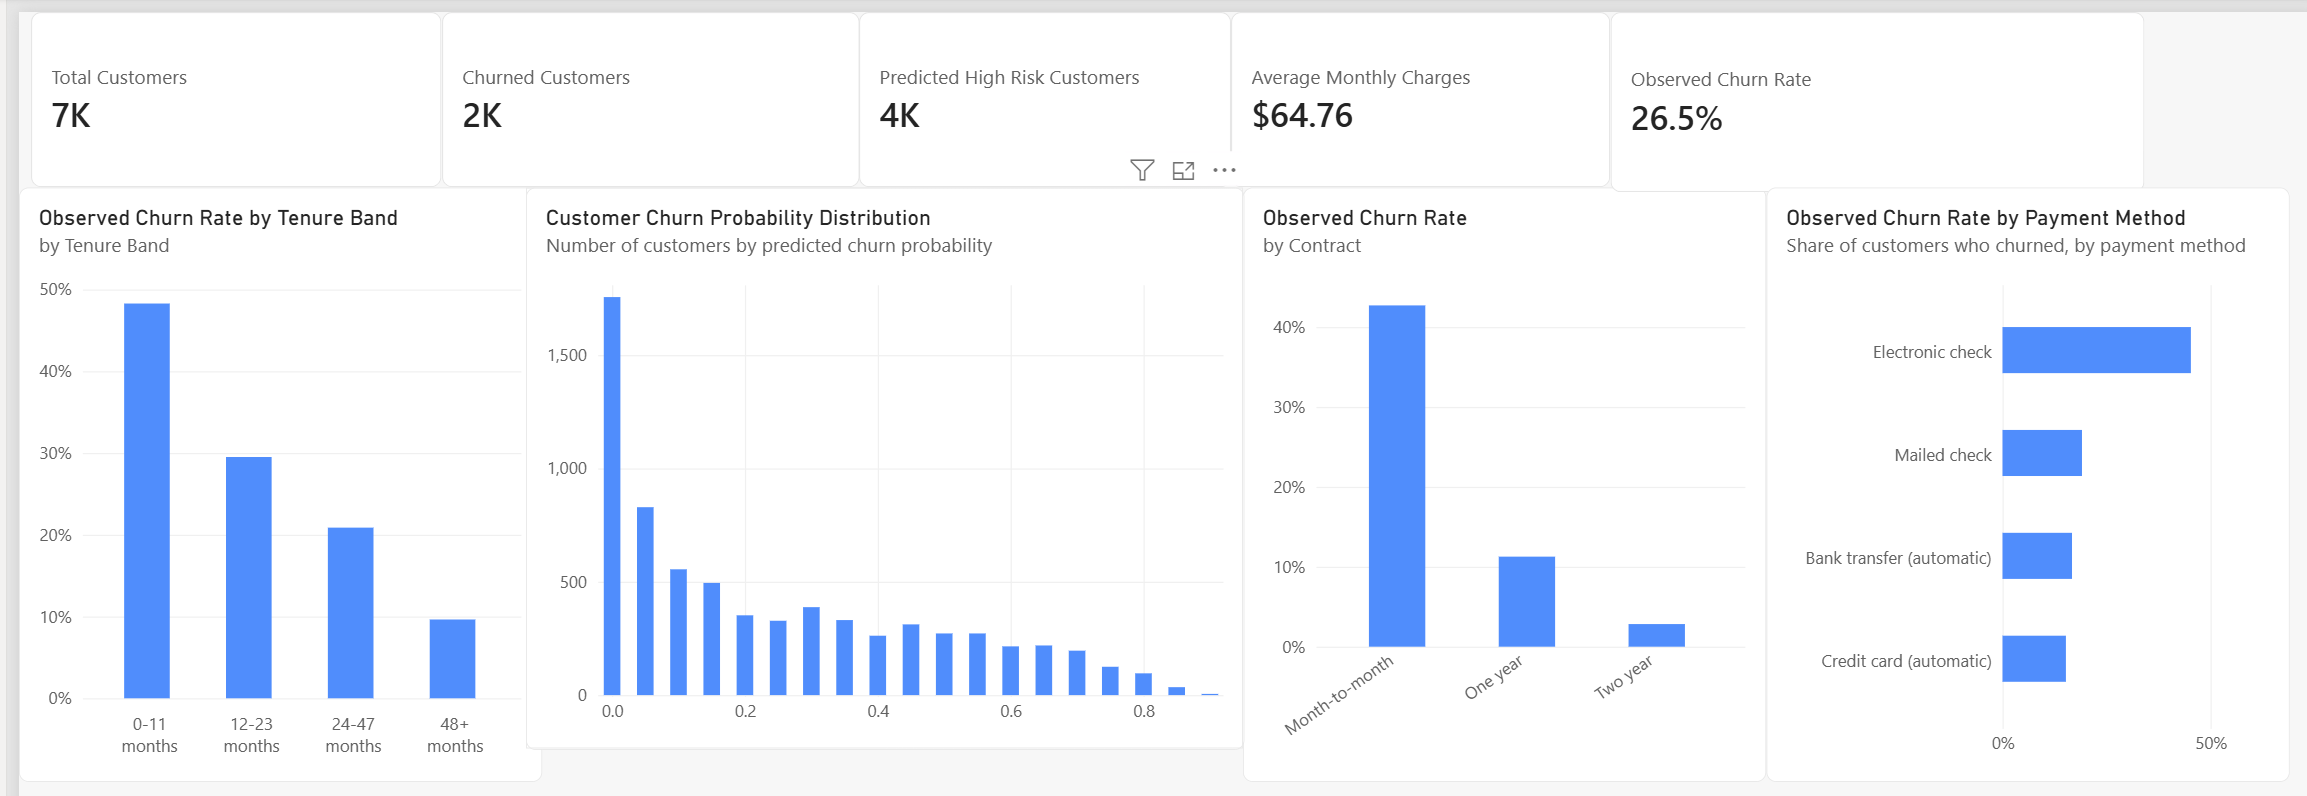

What the dashboard file says about the page in this screenshot:
{"tool":"powerbi","page":{"name":"Page 1","canvas":[1920,1080],"ordinal":0},"visuals":[{"type":"cardVisual","fields":{"Data":["cloud_predictions.Total Customers"]},"box":[10,0,342,146],"z":0},{"type":"cardVisual","fields":{"Data":["cloud_predictions.Average Monthly Charges"]},"box":[1010,0,316,146],"z":1000},{"type":"cardVisual","fields":{"Data":["cloud_predictions.Churned Customers"]},"box":[352,0,348,146],"z":2000},{"type":"cardVisual","fields":{"Data":["cloud_predictions.Predicted High Risk Customers"]},"box":[700,0,310,146],"z":3000},{"type":"clusteredColumnChart","fields":{"Category":["cloud_predictions.Contract"],"Y":["cloud_predictions.Observed Churn Rate"]},"box":[1020,146,436,495],"z":4000},{"type":"cardVisual","fields":{"Data":["cloud_predictions.Observed Churn Rate"]},"box":[1326,0,445,150],"z":5000},{"type":"clusteredColumnChart","title":"Observed Churn Rate by Tenure Band","fields":{"Category":["cloud_predictions.TENURE_BAND"],"Y":["cloud_predictions.Observed Churn Rate"]},"box":[0,146,436,495],"z":6000},{"type":"clusteredBarChart","title":"Observed Churn Rate by Payment Method","fields":{"Category":["cloud_predictions.PaymentMethod"],"Y":["cloud_predictions.Observed Churn Rate"]},"box":[1456,146,436,495],"z":7000},{"type":"clusteredColumnChart","title":"Customer Churn Probability Distribution","fields":{"Category":["cloud_predictions.churn_probability (bins)"],"Y":["CountNonNull(cloud_predictions.customerID)"]},"box":[422,146,598.3,468.3],"z":8000}]}

Visuals, with their boxes on the page's 1920x1080 design canvas (x1, y1, x2, y2). These are canvas units, not pixel positions in the 2307x796 screenshot, which may show the page scaled, cropped or inside an application window:
cardVisual - cloud_predictions.Total Customers: 10,0,352,146
cardVisual - cloud_predictions.Average Monthly Charges: 1010,0,1326,146
cardVisual - cloud_predictions.Churned Customers: 352,0,700,146
cardVisual - cloud_predictions.Predicted High Risk Customers: 700,0,1010,146
clusteredColumnChart - cloud_predictions.Contract x cloud_predictions.Observed Churn Rate: 1020,146,1456,641
cardVisual - cloud_predictions.Observed Churn Rate: 1326,0,1771,150
"Observed Churn Rate by Tenure Band" clusteredColumnChart: 0,146,436,641
"Observed Churn Rate by Payment Method" clusteredBarChart: 1456,146,1892,641
"Customer Churn Probability Distribution" clusteredColumnChart: 422,146,1020,614
